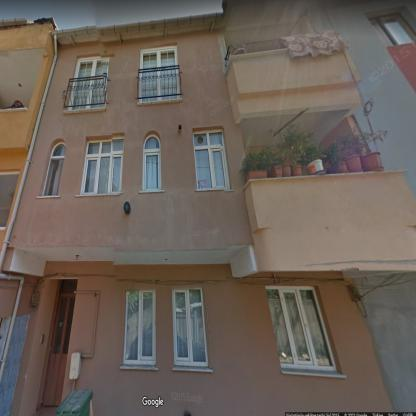door: (41, 293, 75, 406)
window: (264, 284, 338, 373), (172, 289, 208, 367), (80, 136, 125, 193), (138, 44, 181, 103), (66, 55, 110, 110), (124, 291, 155, 365), (193, 130, 230, 189), (42, 142, 66, 196), (143, 135, 161, 190)
